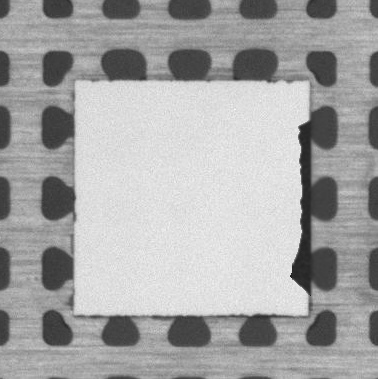DIE_BROKEN: (290, 120, 313, 291)
